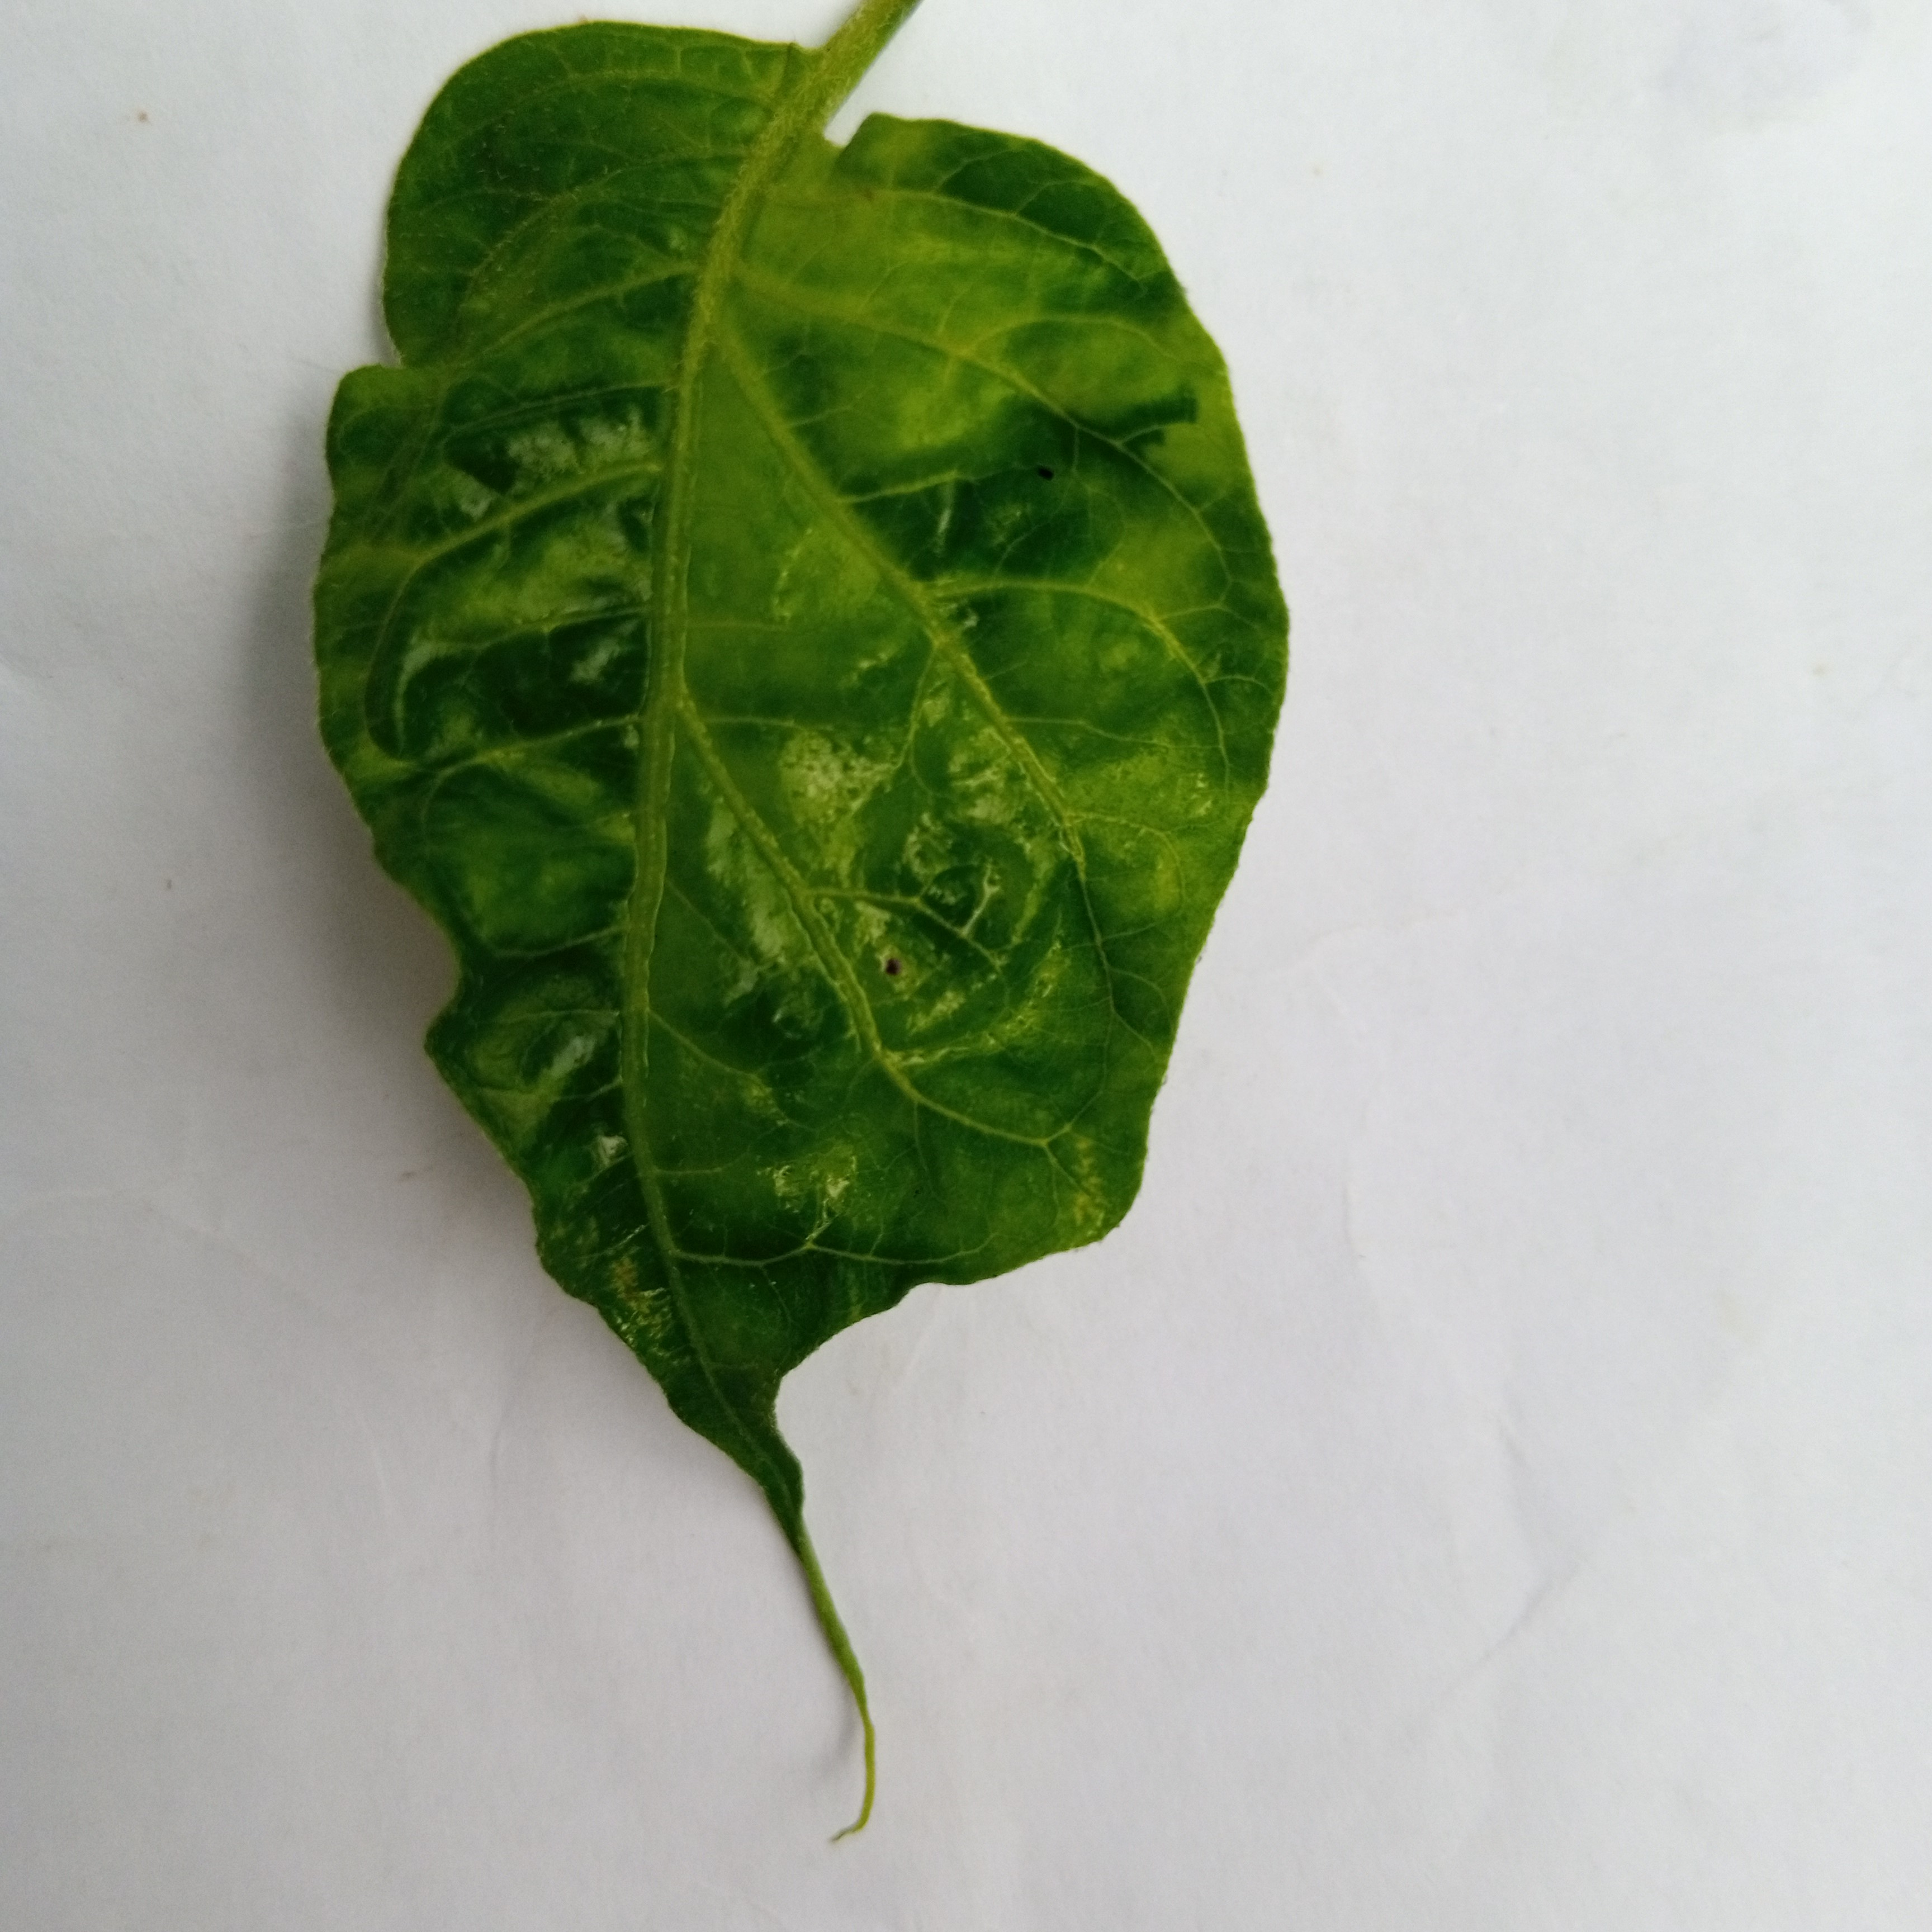Leaf: (306, 9, 1424, 1886)
